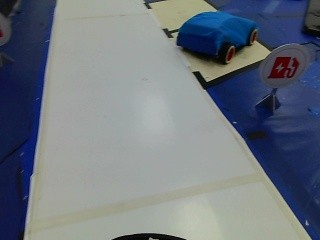battery: (265, 50, 304, 87)
car: (174, 6, 261, 63)
